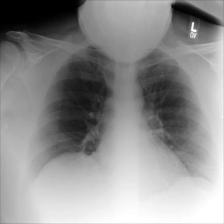normal: (28, 40, 219, 189)
